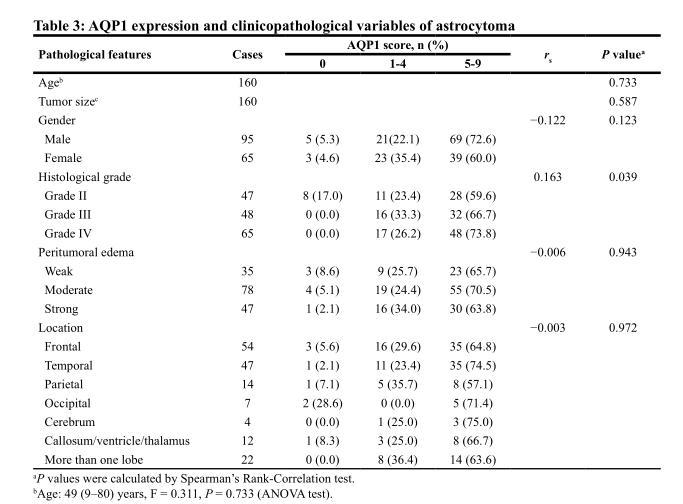table: (37, 36, 643, 465)
table column: (37, 36, 209, 465), (434, 36, 512, 465), (357, 36, 434, 465), (281, 36, 357, 465), (209, 36, 281, 465), (512, 36, 582, 465), (582, 36, 643, 465)
table column header: (37, 36, 643, 71)
table row: (37, 71, 643, 90), (37, 90, 643, 109), (37, 109, 643, 128), (37, 128, 643, 147), (37, 147, 643, 166), (37, 166, 643, 185), (37, 203, 643, 222), (37, 222, 643, 241), (37, 241, 643, 260), (37, 260, 643, 279), (37, 279, 643, 298), (37, 298, 643, 317), (37, 335, 643, 354), (37, 354, 643, 373), (37, 373, 643, 392), (37, 392, 643, 411), (37, 411, 643, 430), (37, 430, 643, 449), (37, 53, 643, 71), (37, 185, 643, 203), (37, 317, 643, 335), (37, 36, 643, 53), (37, 449, 643, 465)
table spanning cell: (37, 36, 209, 71), (281, 36, 512, 53), (209, 36, 281, 71), (512, 36, 582, 71), (582, 36, 643, 71)
